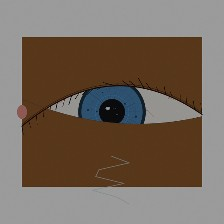foreign_body_visible: (49, 88, 68, 103)
